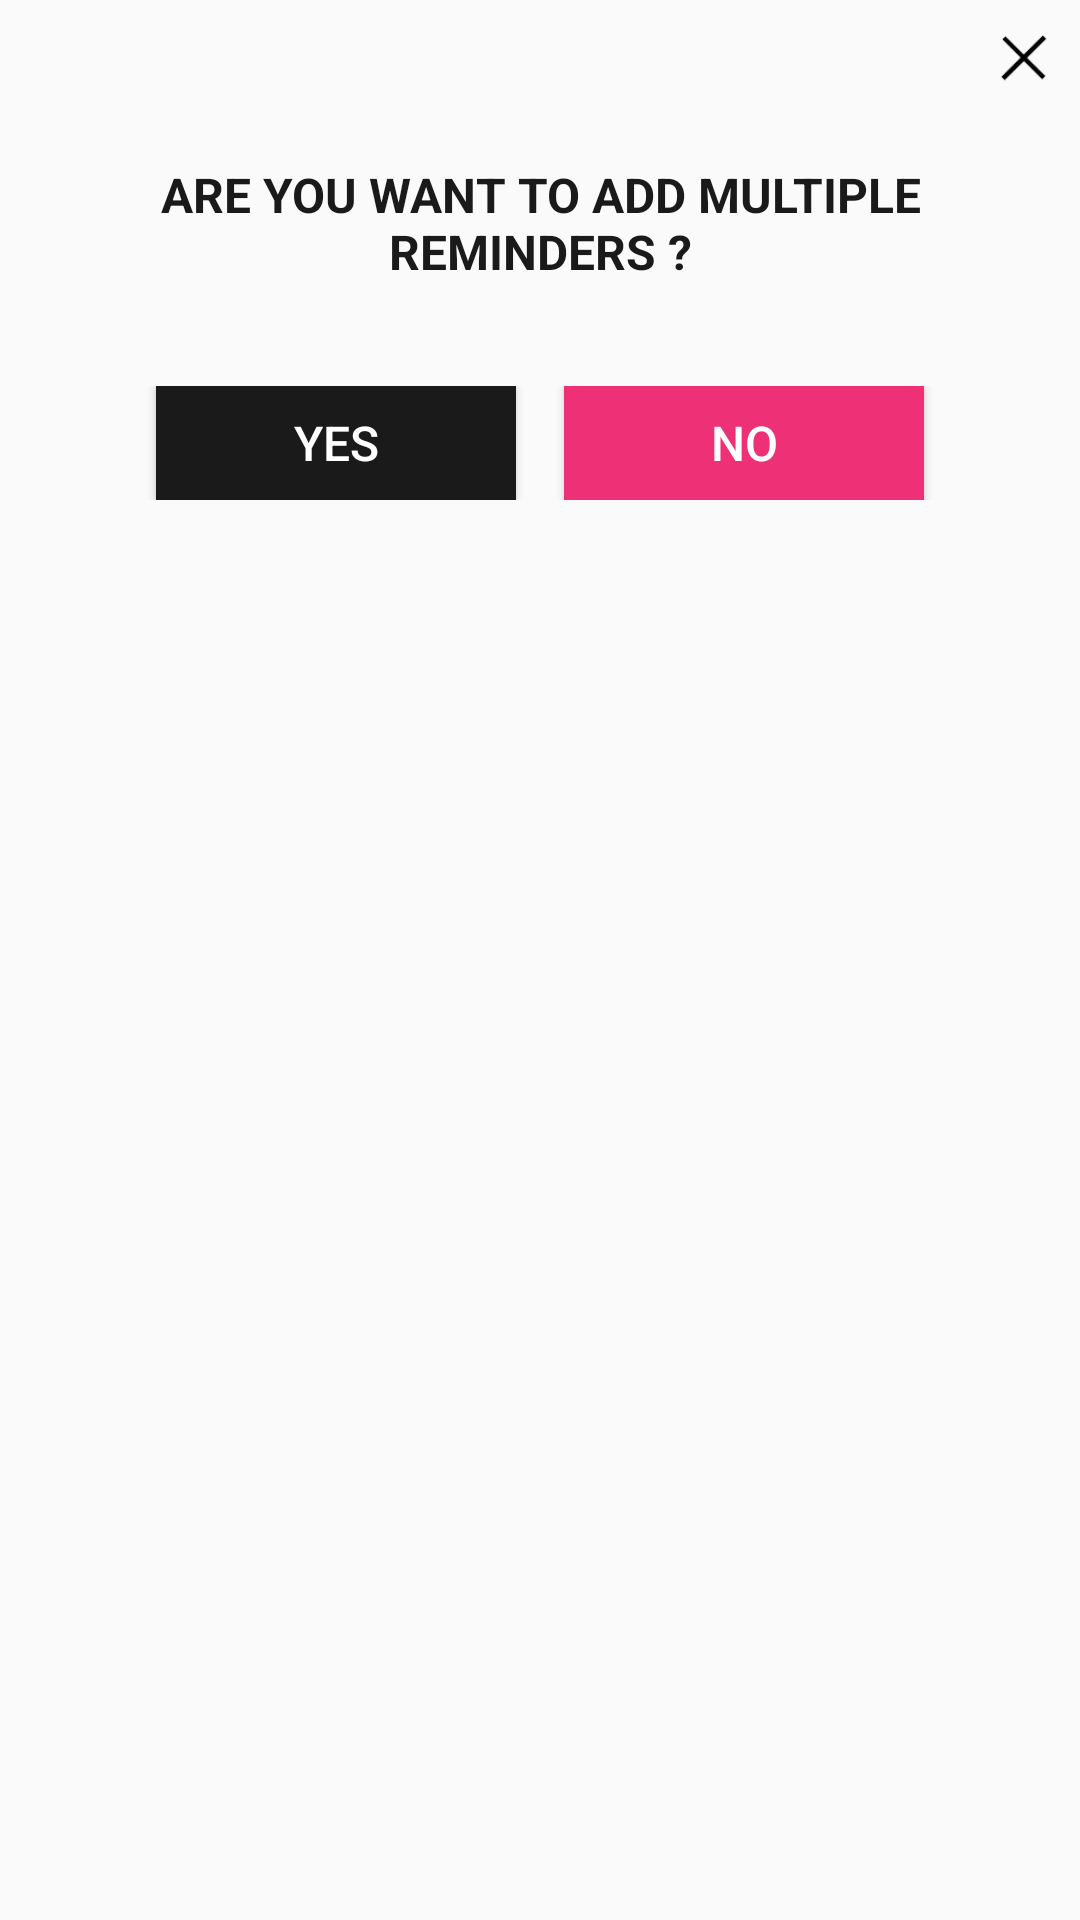

Screen size 1080px×1920px. Icon name, then its center in pixels as (x=x, y=y):
close: (x=1024, y=58)
